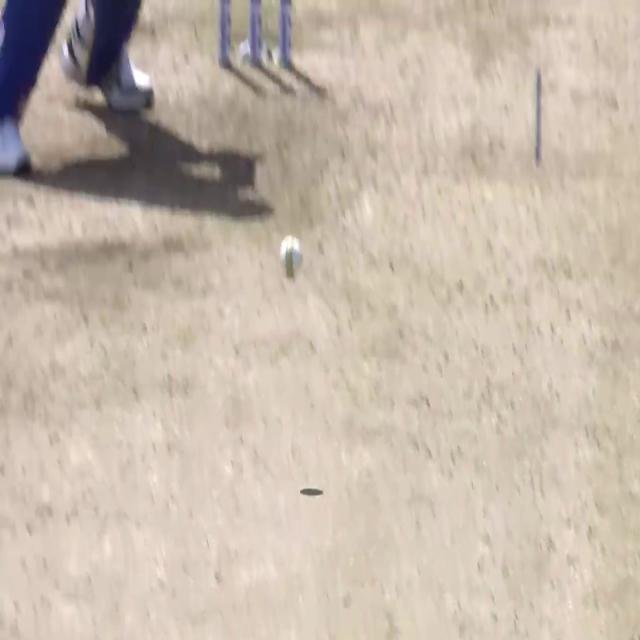ball: (278, 235, 302, 281)
